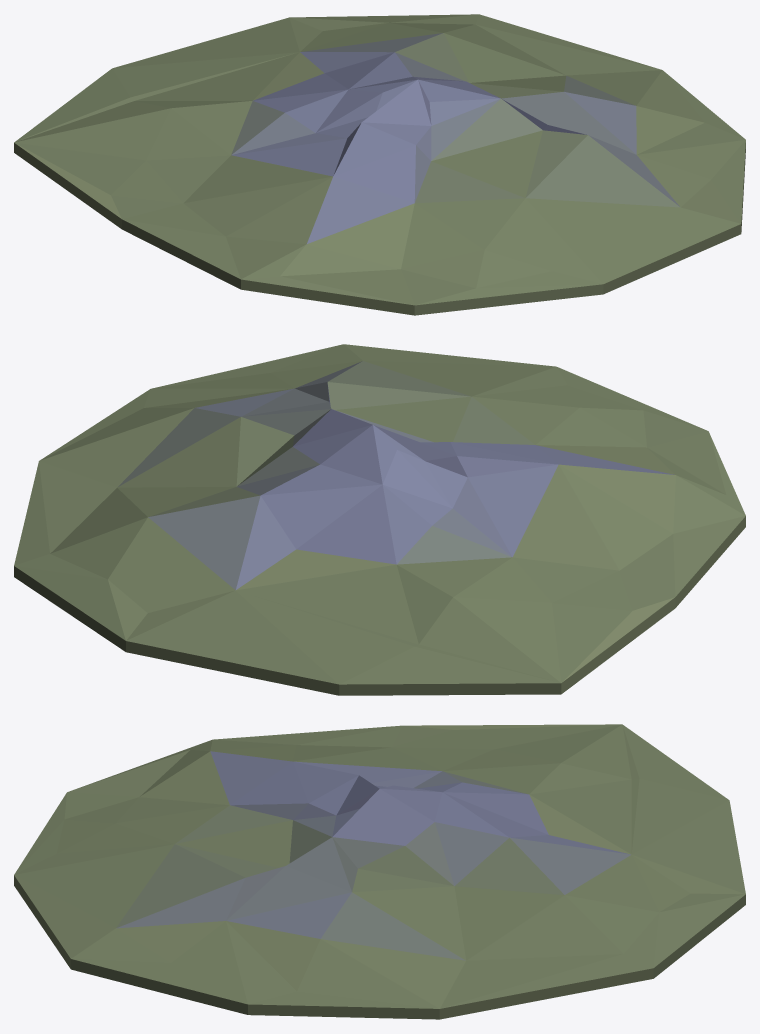
Rendered from massif_east_foothill.glb.
3 renders of one model, top to bottom at view 1: azimuth 30°, elevation 25°; view 2: azimuth 150°, elevation 25°; view 3: azimuth 270°, elevation 25°, orthographic. The views are drawn at different scales.
Parts seen in each view (by area): view 1: massif_east_foothill; view 2: massif_east_foothill; view 3: massif_east_foothill.
Boxes of the visible parts, left/top/right/bottom form: massif_east_foothill: left=14, top=14, right=745, bottom=315; massif_east_foothill: left=14, top=344, right=745, bottom=695; massif_east_foothill: left=14, top=724, right=745, bottom=1019.
Size of the model in its own units: 633 by 95.43 by 688.
